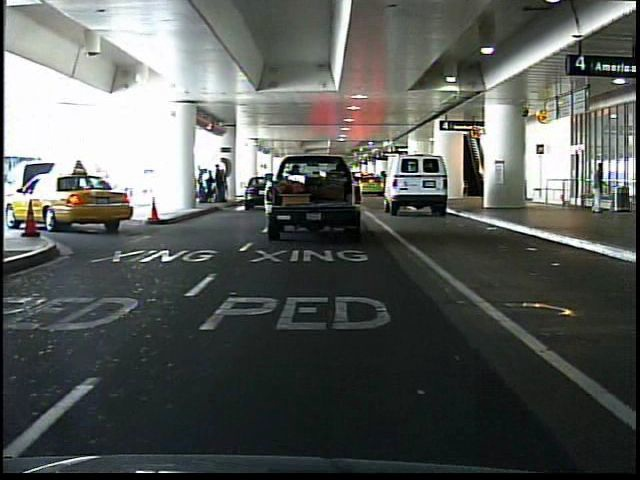person: (586, 160, 610, 216)
